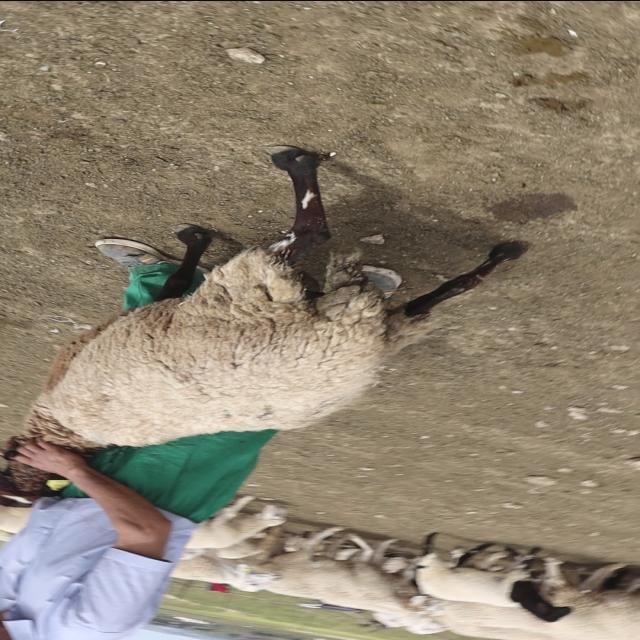Score_2: (0, 145, 523, 502)
